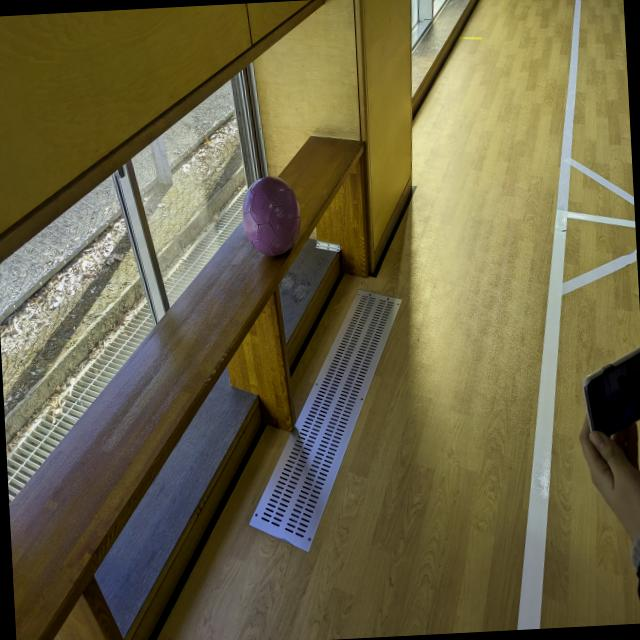purple_ball: (242, 173, 302, 256)
